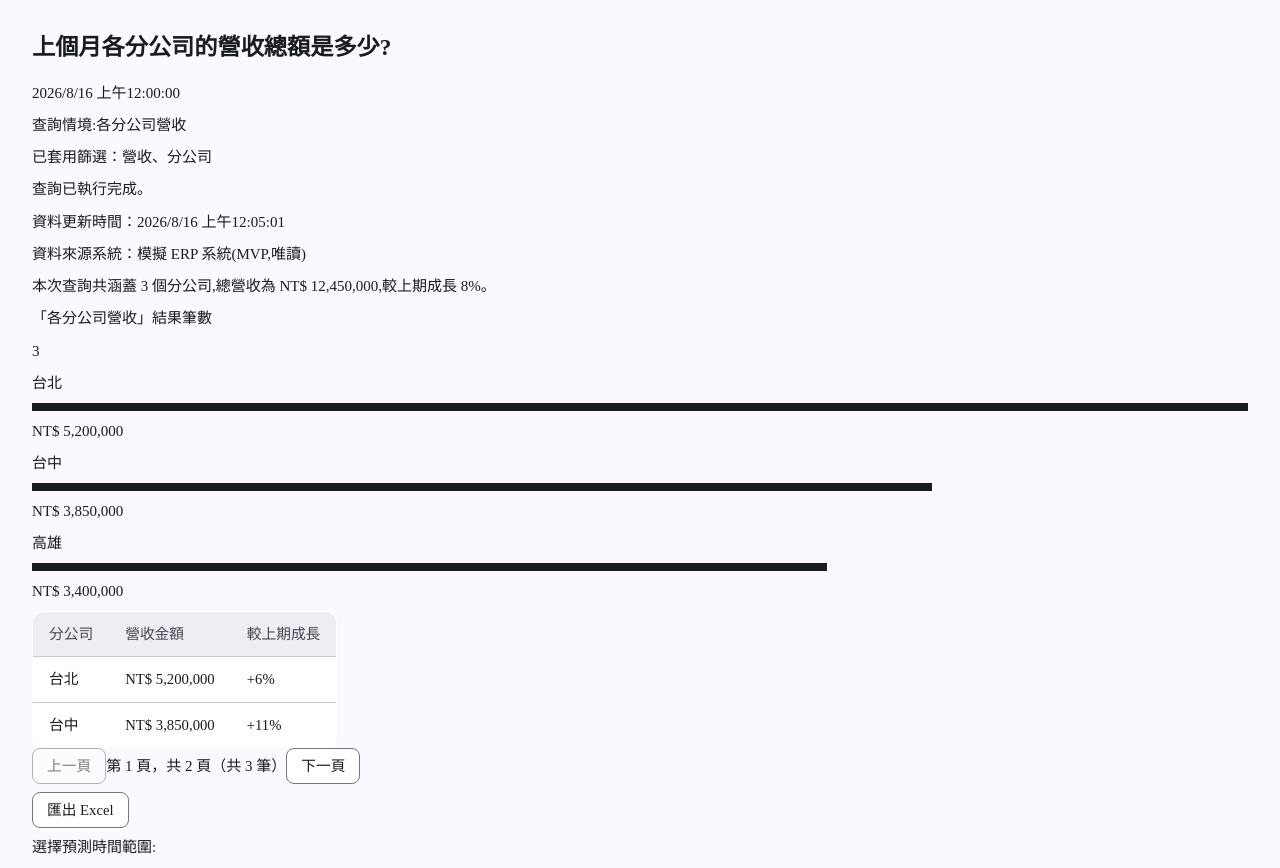
Test case: ErpQueryDetail result table pagination (E09-S009) › clicking 下一頁 reveals the next page's rows and hides the previous page's own rows
Expected: the heading "上個月各分公司的營收總額是多少?" is shown, [32, 34, 391, 60]
Expected: the table is shown, [32, 611, 337, 748]
Click the button "下一頁".
click(323, 766)  # box [286, 748, 360, 784]
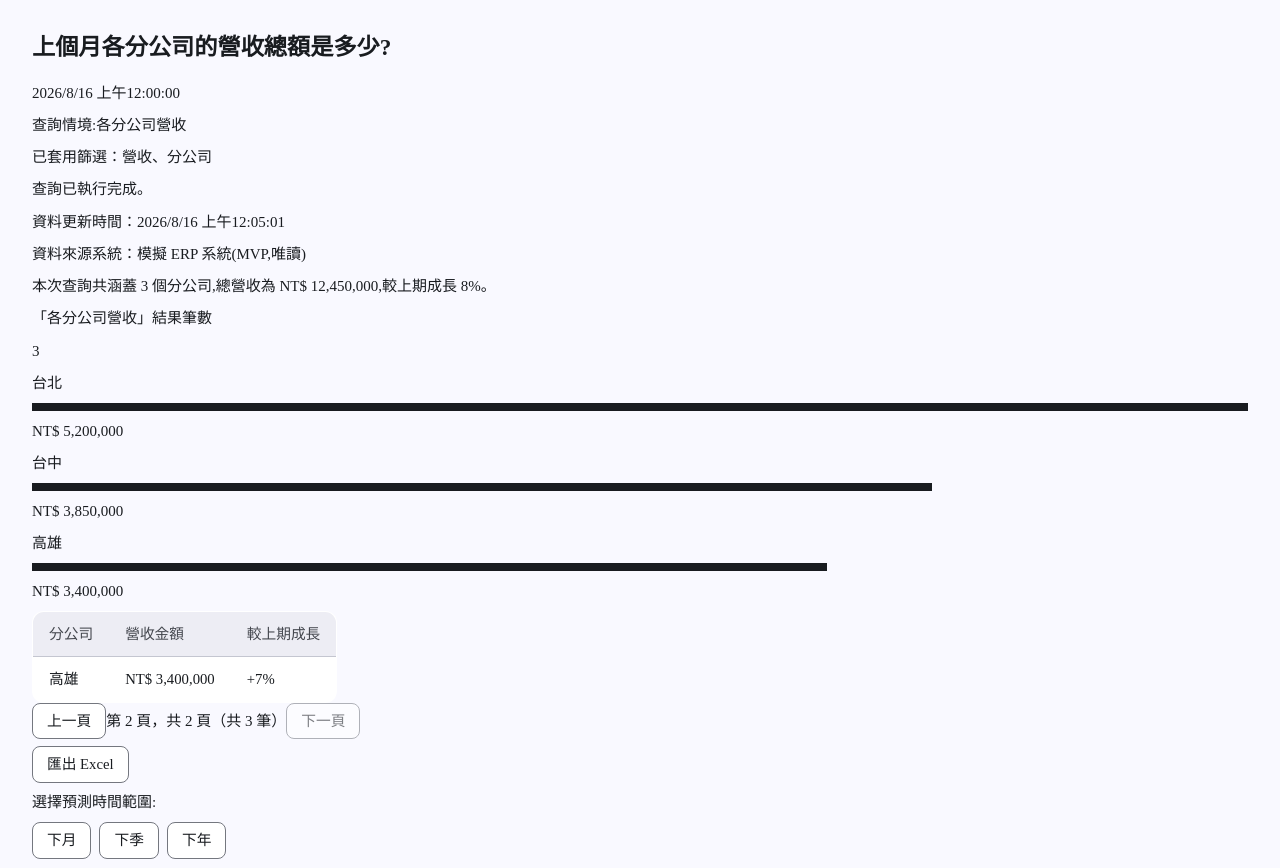
Now the cell "高雄" is shown, box [32, 657, 109, 702]
